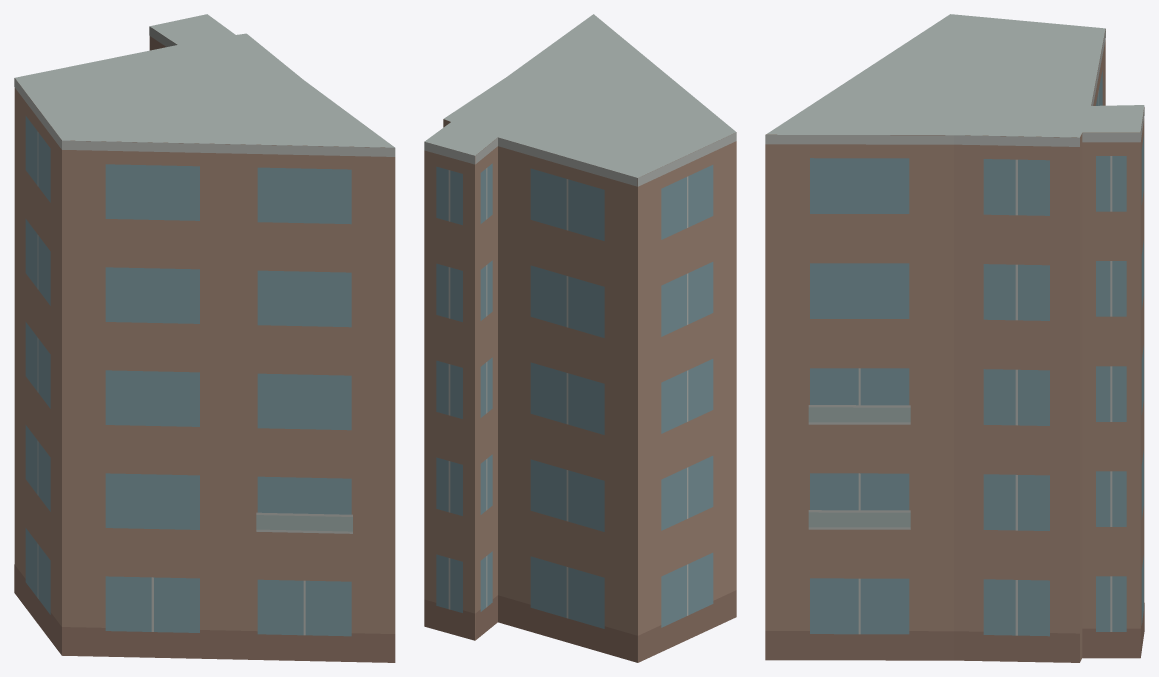
Rendered from survey-upis-32935614.glb.
3 renders of one model, left to right at view 1: azimuth 30°, elevation 25°; view 2: azimuth 150°, elevation 25°; view 3: azimuth 270°, elevation 25°, orthographic. The views are drawn at different scales.
Parts seen in each view (by area): view 1: survey-upis-32935614.tmp; view 2: survey-upis-32935614.tmp; view 3: survey-upis-32935614.tmp.
Boxes of the visible parts, x1=… form: survey-upis-32935614.tmp: x1=14, y1=14, x2=395, y2=662; survey-upis-32935614.tmp: x1=424, y1=14, x2=736, y2=662; survey-upis-32935614.tmp: x1=765, y1=14, x2=1144, y2=662.
Size of the model in its own units: 6.78 by 13.44 by 8.8.
